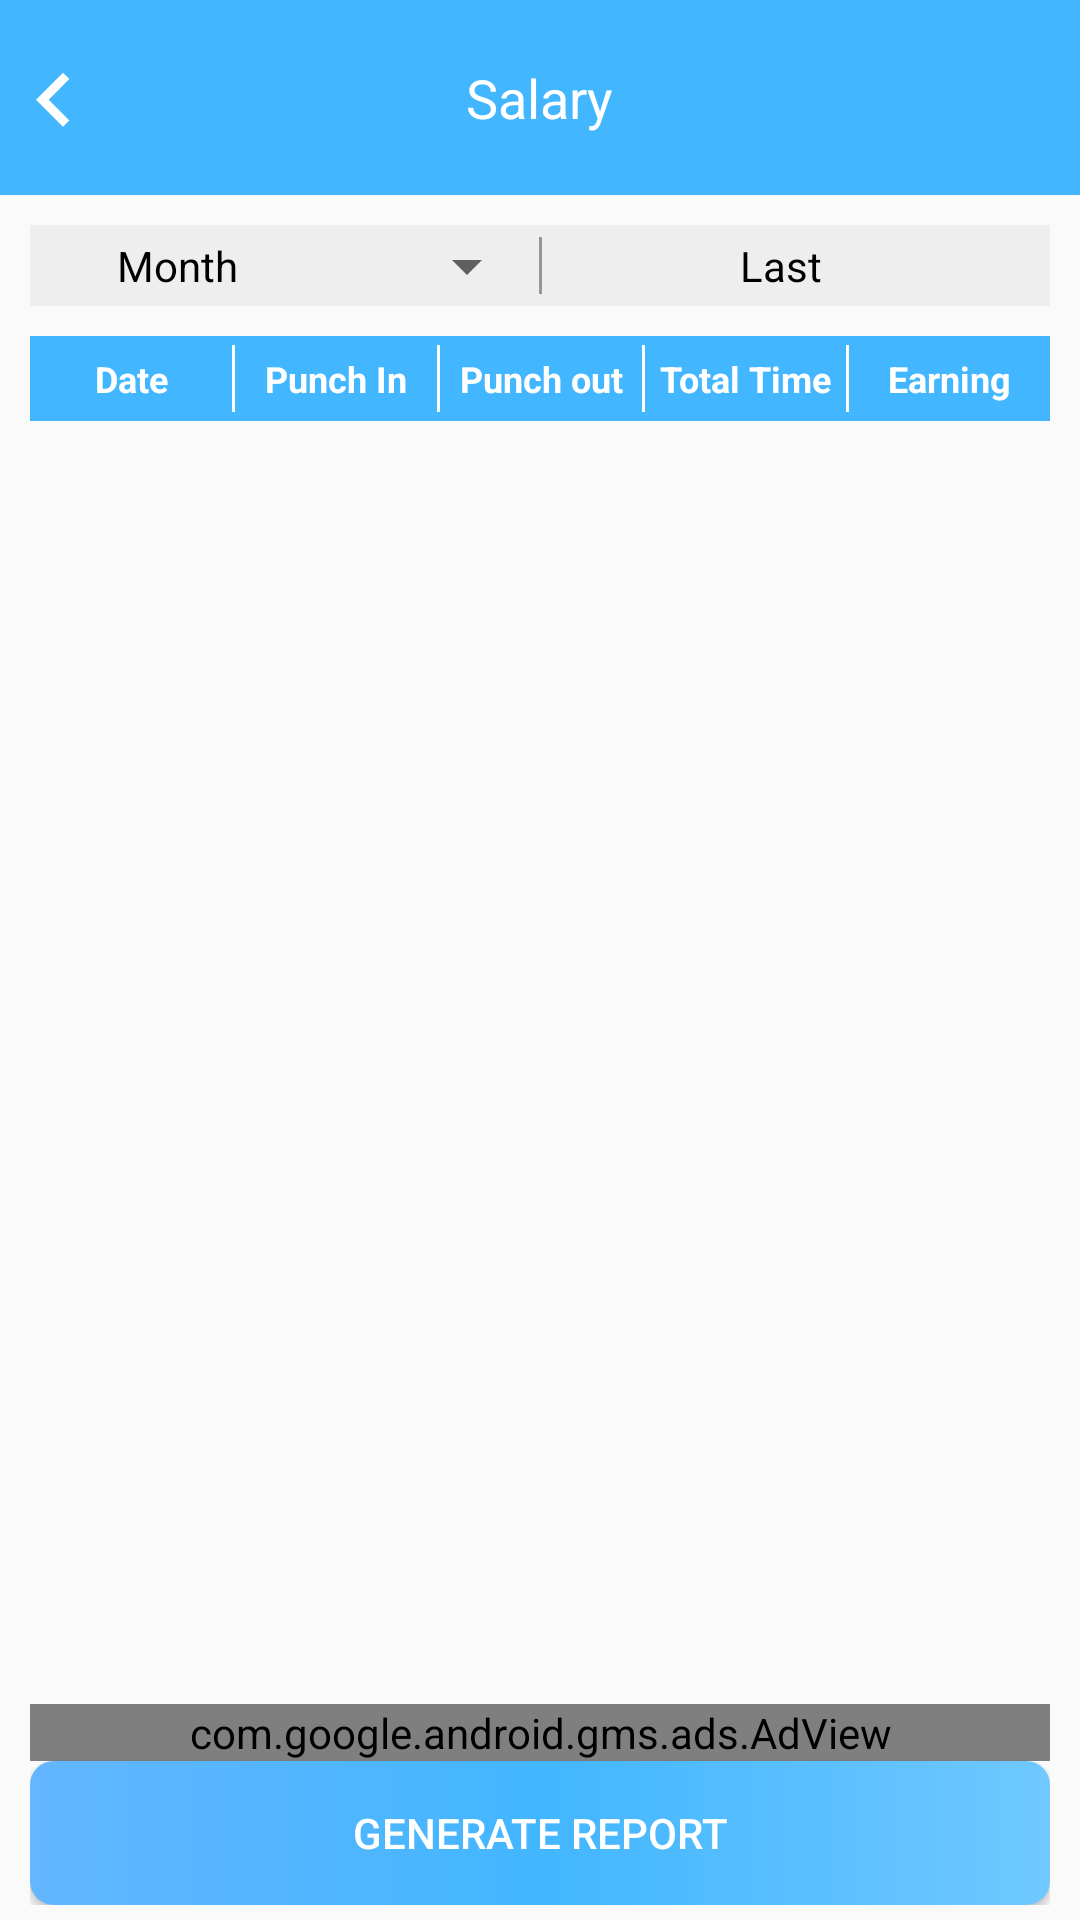

Screen size 1080w x 1920h. Icon name, then its center in pixels as (x=x, y=y):
keyboard arrow left: (x=52, y=100)
